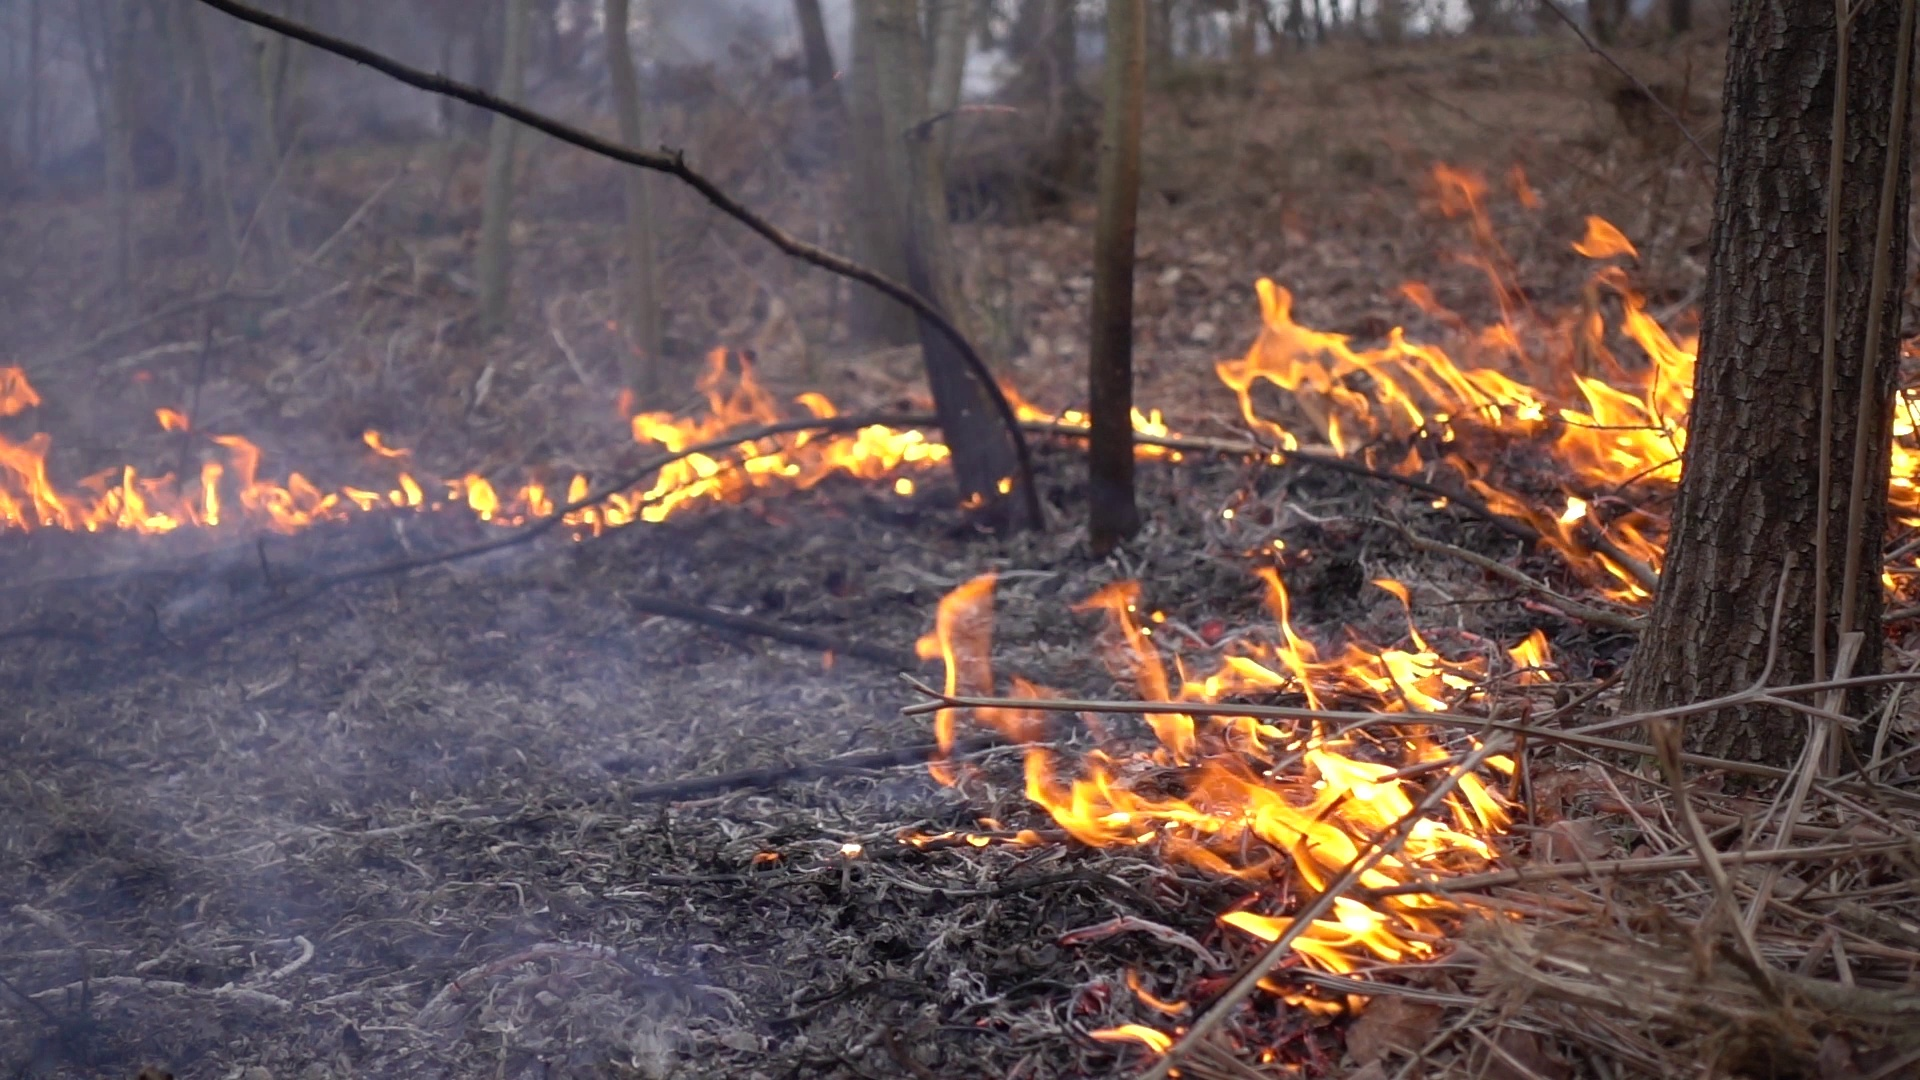fire: (924, 568, 1552, 992), (1221, 262, 1687, 592), (568, 375, 949, 527), (1, 435, 320, 527), (357, 468, 496, 516), (1894, 392, 1915, 509), (1125, 410, 1164, 443)
